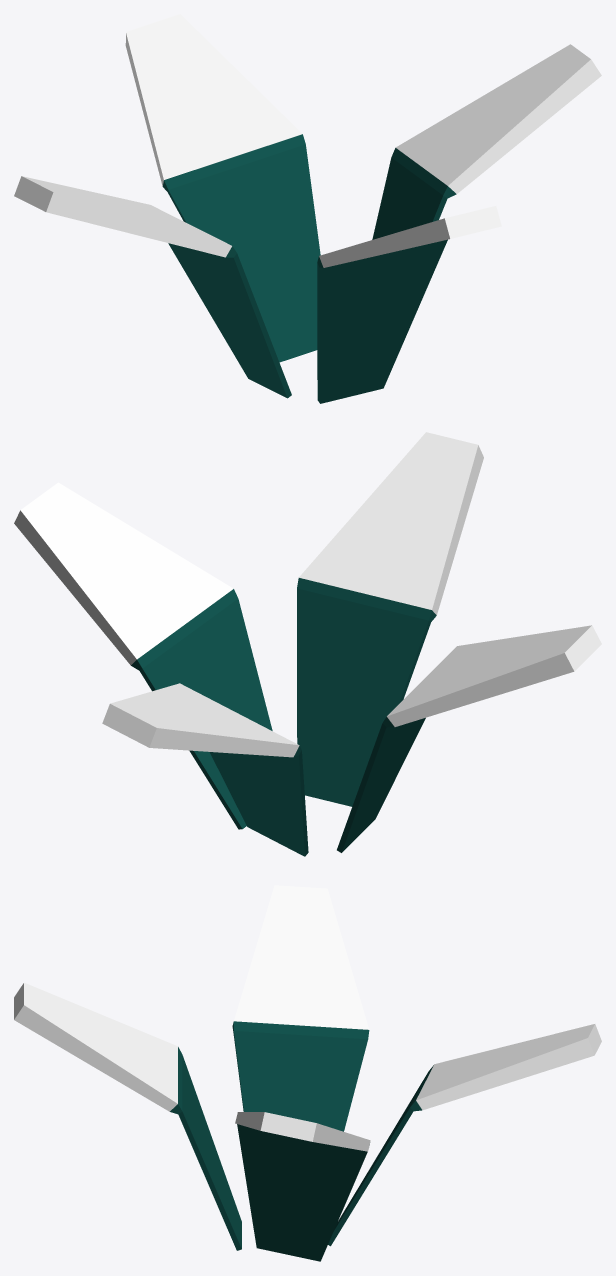
The model's file is Mesh_Grass_Outwards.glb.
3 renders of one model, top to bottom at view 1: azimuth 30°, elevation 25°; view 2: azimuth 150°, elevation 25°; view 3: azimuth 270°, elevation 25°, orthographic. The views are drawn at different scales.
Visible parts, largest first — view 1: Mesh_Grass_Outwards; view 2: Mesh_Grass_Outwards; view 3: Mesh_Grass_Outwards.
Boxes of the visible parts, x1=… form: Mesh_Grass_Outwards: x1=14, y1=14, x2=601, y2=403; Mesh_Grass_Outwards: x1=14, y1=432, x2=601, y2=856; Mesh_Grass_Outwards: x1=14, y1=885, x2=601, y2=1261.
Size of the model in its own units: 0.2823 by 0.1332 by 0.2858.
1 material, 1 textured.
